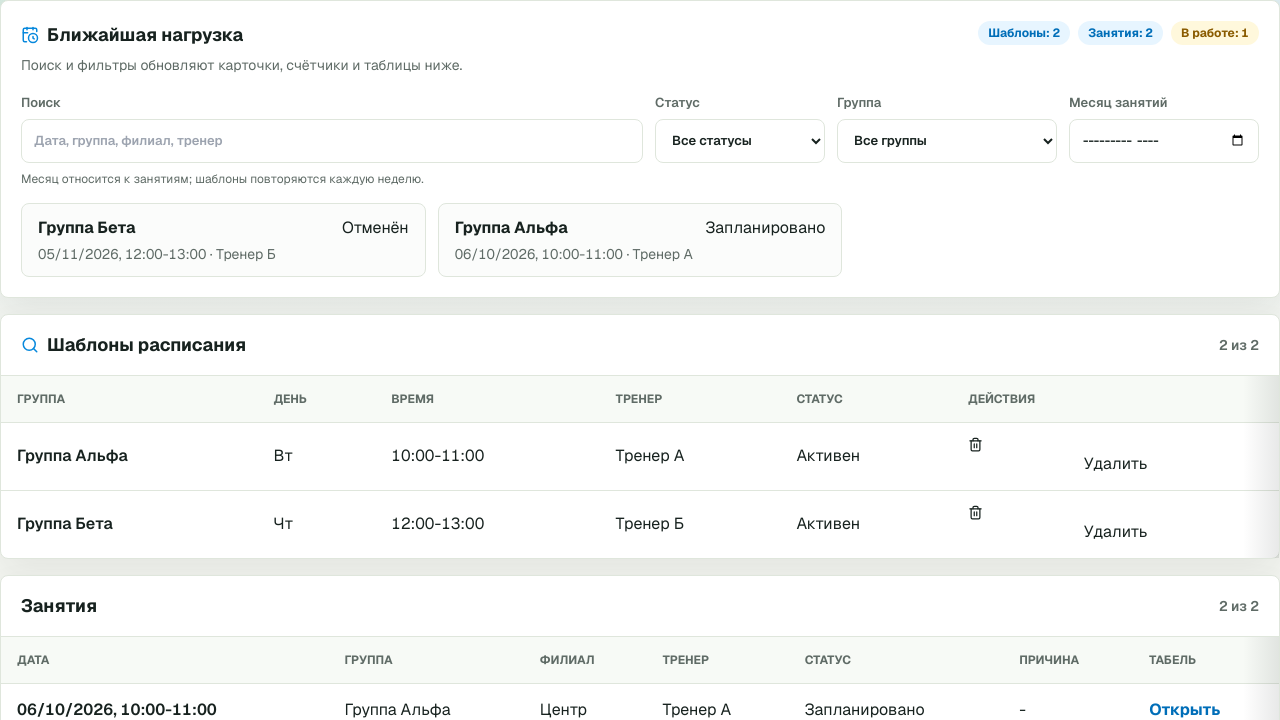
Test: schedule filters › finds a lesson by the date format shown on screen
In the field labelled "Поиск": (332, 140) [21,118,643,162], type "06.10.2026"
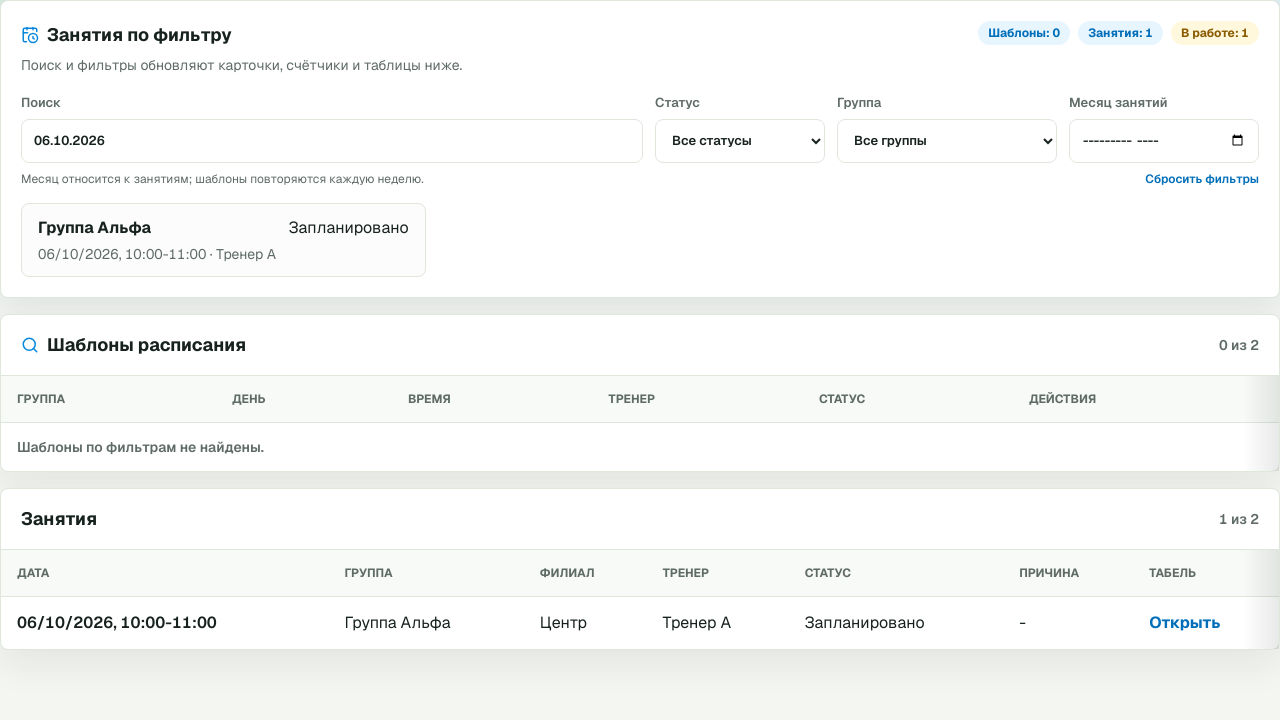
Expected: the row "06/10/2026" is shown, [1,596,1279,648]
Expected: the text "05/11/2026" is gone
Expected: the text "Занятия: 1" is shown, [1078,21,1163,45]
